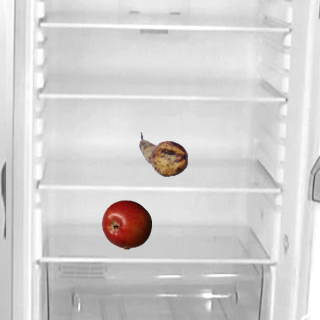Apple Braeburn: (101, 199, 151, 249)
Pear Abate: (138, 129, 188, 179)
